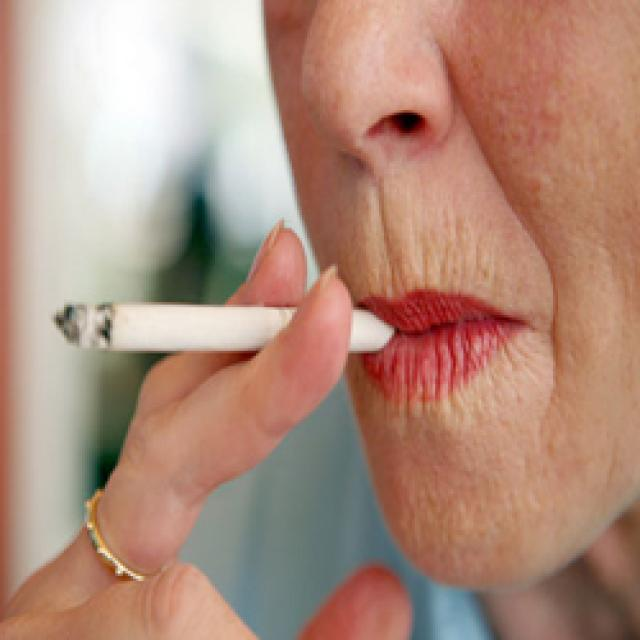Smooking: (36, 283, 413, 365)
